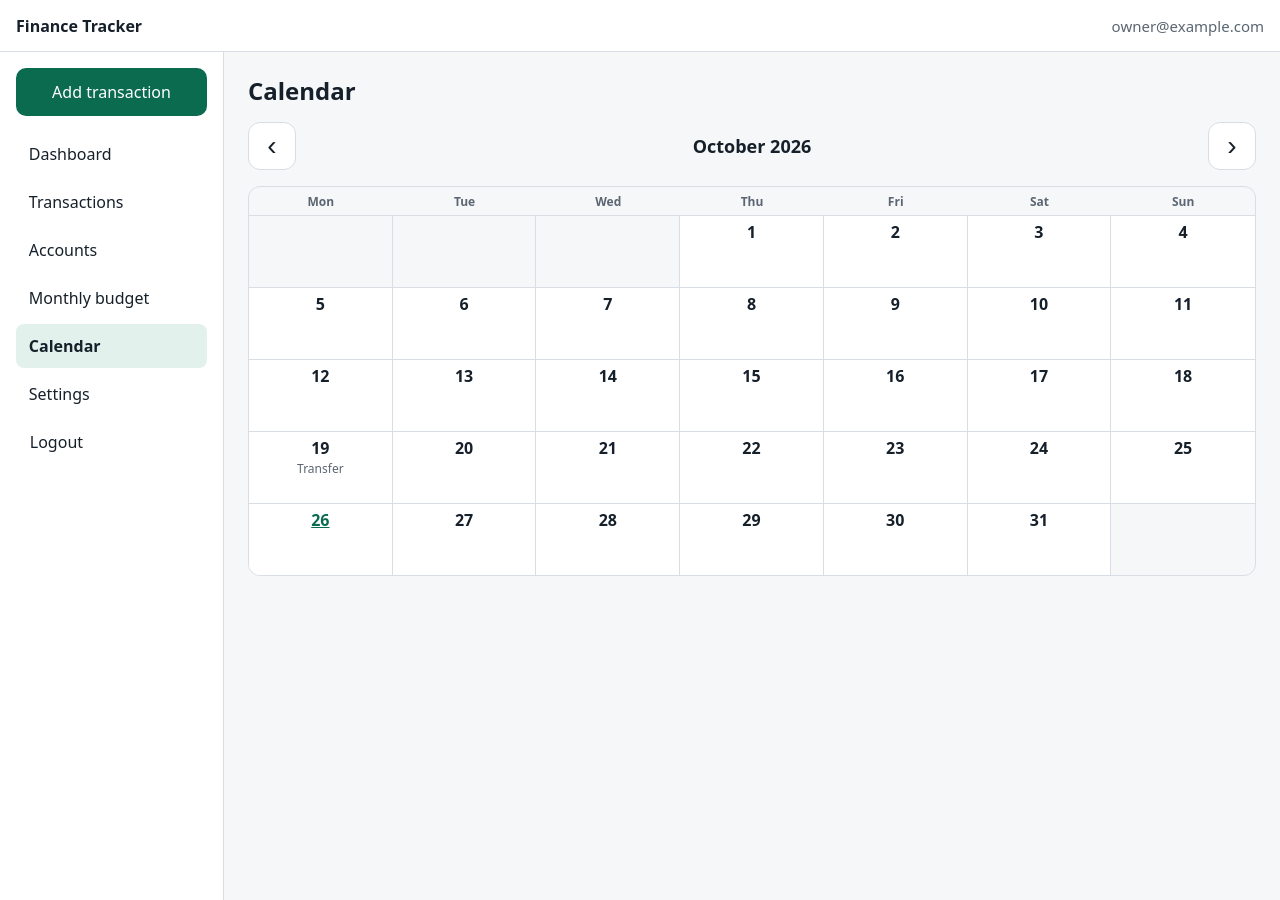
Test: CalendarGrid › opens a daily drilldown and offers a date-prefilled transaction
This screenshot has width=1280, height=900.
Click the cell named "19 1 transactions" at (321,467), box top-left (249, 431), bottom-right (393, 503)
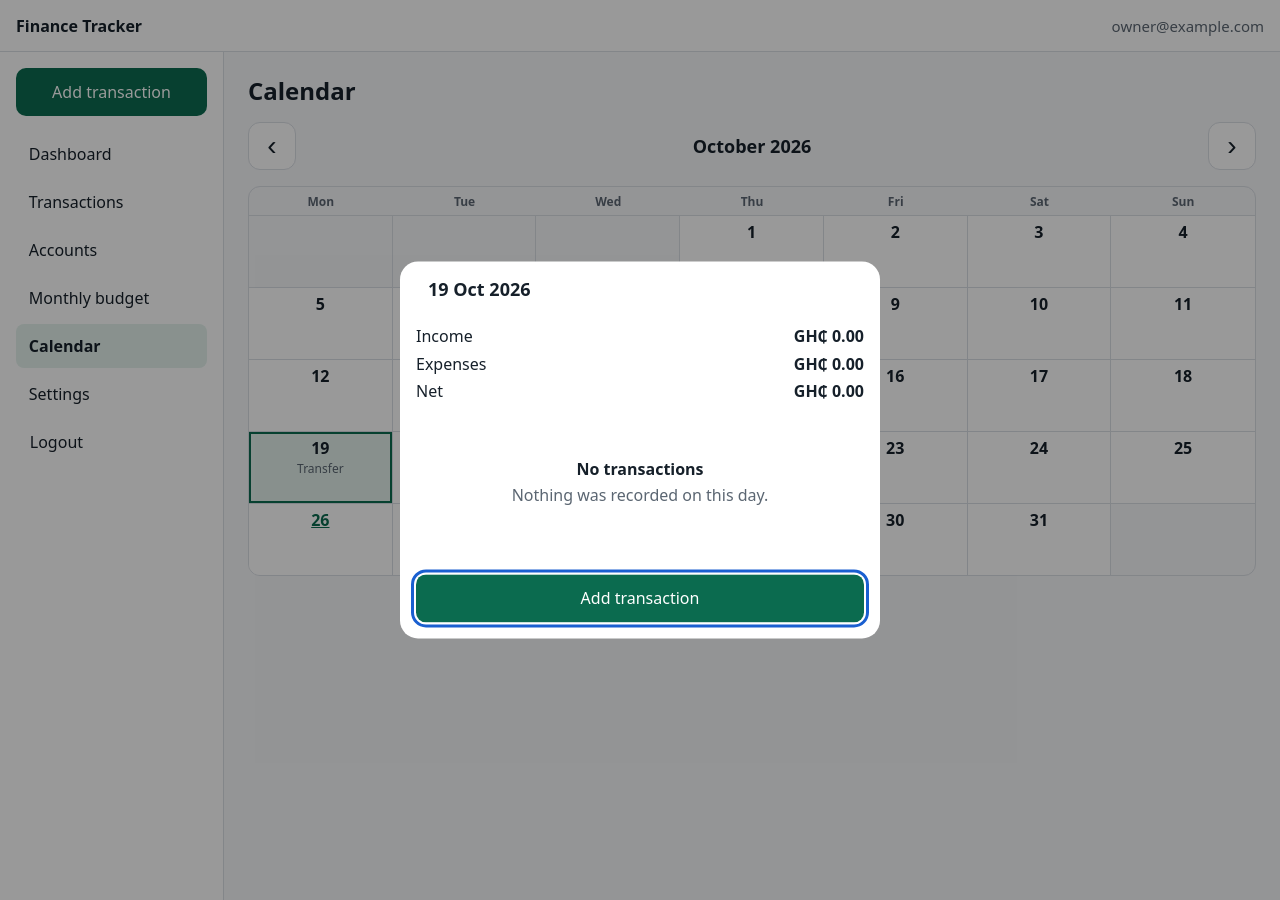
Expected: the dialog "19 Oct 2026" is shown, top-left (400, 261), bottom-right (880, 639)
